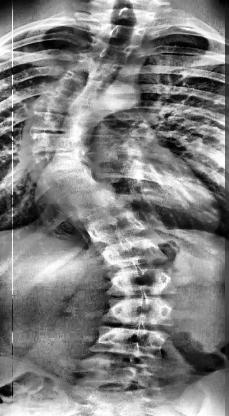Vertebrae: (105, 267, 179, 301), (104, 298, 176, 332), (99, 234, 168, 268), (77, 209, 149, 240), (94, 327, 164, 358), (86, 353, 156, 382), (52, 68, 110, 100), (54, 188, 119, 216), (32, 87, 92, 116), (21, 108, 81, 136), (29, 147, 92, 173), (37, 168, 99, 194), (66, 54, 121, 82), (25, 130, 87, 154), (90, 22, 144, 46), (96, 7, 160, 27), (81, 40, 132, 62)
